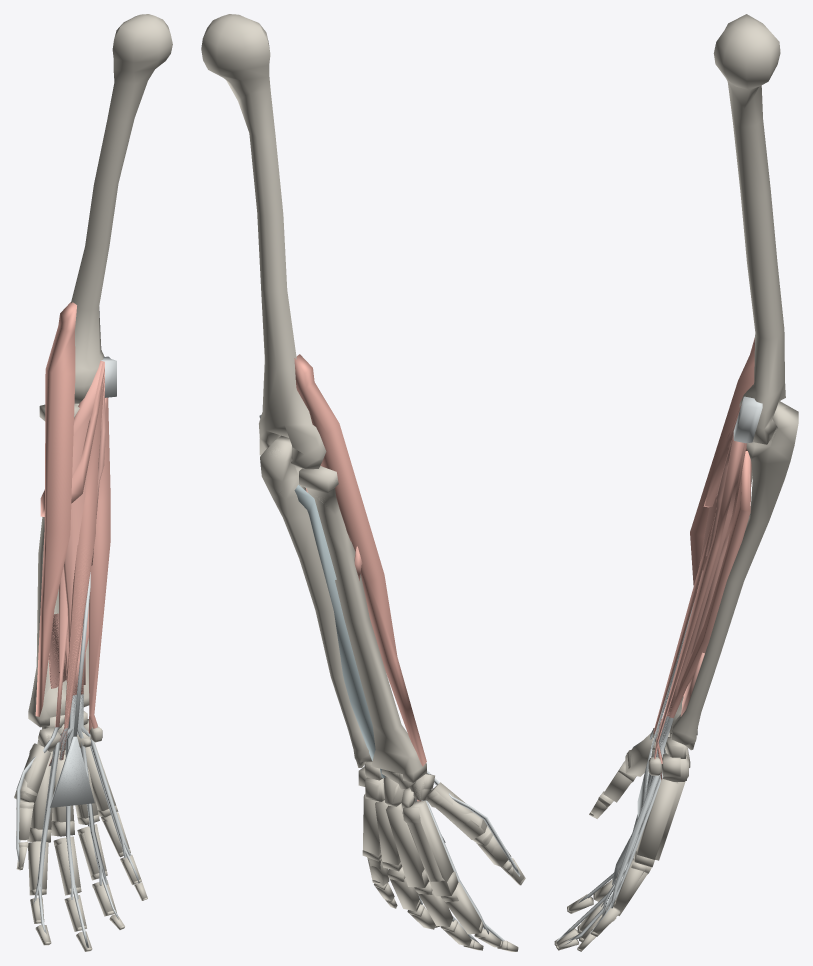
Rendered from forearm-anterior.glb.
3 renders of one model, left to right at view 1: azimuth 30°, elevation 25°; view 2: azimuth 150°, elevation 25°; view 3: azimuth 270°, elevation 25°, orthographic. The views are drawn at different scales.
Visible parts, largest first — view 1: Pronator_Teres_anim, Brachioradialis anim, Flexor_Carpi_Radialis_anim, Brachioradialis, Palmaris_Longus_anim, Flexor Carpi Ulnaris, Flexor_Digitorum_Superficialis_anim, Humerus, Flexor Carpi Radialis, Flexor_Carpi_Ulnaris_anim, Flexor Digitorum Superficialis Tendon, Flexor Digitorum Superficialis (+13 smaller); view 2: Brachioradialis anim, Humerus, Palmaris_Longus_anim, Flexor_Carpi_Radialis_anim, Brachioradialis, Flexor_Carpi_Ulnaris_anim, Flexor_Digitorum_Superficialis_anim, Radius, Pronator_Teres_anim, Interosseous Membrane, Flexor_Pollicis_Longus_anim, Flexor_Digitorum_Profundus_anim (+4 smaller); view 3: Flexor_Digitorum_Superficialis_anim, Humerus, Brachioradialis anim, Flexor_Carpi_Radialis_anim, Palmaris_Longus_anim, Pronator_Teres_anim, Flexor_Carpi_Ulnaris_anim, Flexor_Digitorum_Profundus_anim, Ulna, Flexor Carpi Ulnaris, Brachioradialis, Flexor Digitorum Profundus (+7 smaller).
Boxes of the visible parts, box(x1,y1,x2,y2) form: Pronator_Teres_anim: box(29, 20, 172, 725); Brachioradialis anim: box(28, 35, 171, 722); Flexor_Carpi_Radialis_anim: box(29, 121, 144, 951); Brachioradialis: box(35, 306, 76, 716); Palmaris_Longus_anim: box(16, 14, 172, 948); Flexor Carpi Ulnaris: box(88, 388, 110, 733); Flexor_Digitorum_Superficialis_anim: box(33, 16, 171, 903); Humerus: box(75, 14, 171, 390); Flexor Carpi Radialis: box(49, 371, 104, 765); Flexor_Carpi_Ulnaris_anim: box(28, 398, 145, 949); Flexor Digitorum Superficialis Tendon: box(33, 694, 131, 902); Flexor Digitorum Superficialis: box(63, 404, 92, 694); Brachioradialis anim: box(201, 32, 421, 778); Humerus: box(201, 14, 326, 468); Palmaris_Longus_anim: box(219, 17, 518, 949); Flexor_Carpi_Radialis_anim: box(260, 461, 518, 951); Brachioradialis: box(294, 356, 426, 766); Flexor_Carpi_Ulnaris_anim: box(201, 40, 517, 951); Flexor_Digitorum_Superficialis_anim: box(201, 17, 488, 933); Radius: box(299, 465, 417, 782); Pronator_Teres_anim: box(203, 14, 420, 777); Interosseous Membrane: box(294, 485, 385, 777); Flexor_Pollicis_Longus_anim: box(301, 472, 524, 884); Flexor_Digitorum_Profundus_anim: box(264, 435, 503, 950); Flexor_Digitorum_Superficialis_anim: box(582, 18, 793, 938); Humerus: box(714, 17, 784, 443); Brachioradialis anim: box(672, 35, 780, 723); Flexor_Carpi_Radialis_anim: box(556, 443, 794, 950); Palmaris_Longus_anim: box(556, 14, 798, 948); Pronator_Teres_anim: box(669, 25, 798, 748); Flexor_Carpi_Ulnaris_anim: box(557, 47, 794, 949); Flexor_Digitorum_Profundus_anim: box(557, 401, 793, 950); Ulna: box(677, 408, 797, 748); Flexor Carpi Ulnaris: box(654, 437, 744, 780); Brachioradialis: box(684, 337, 754, 671); Flexor Digitorum Profundus: box(669, 455, 751, 718).
Size of the model in its own units: 4.51 by 16.83 by 3.71.
